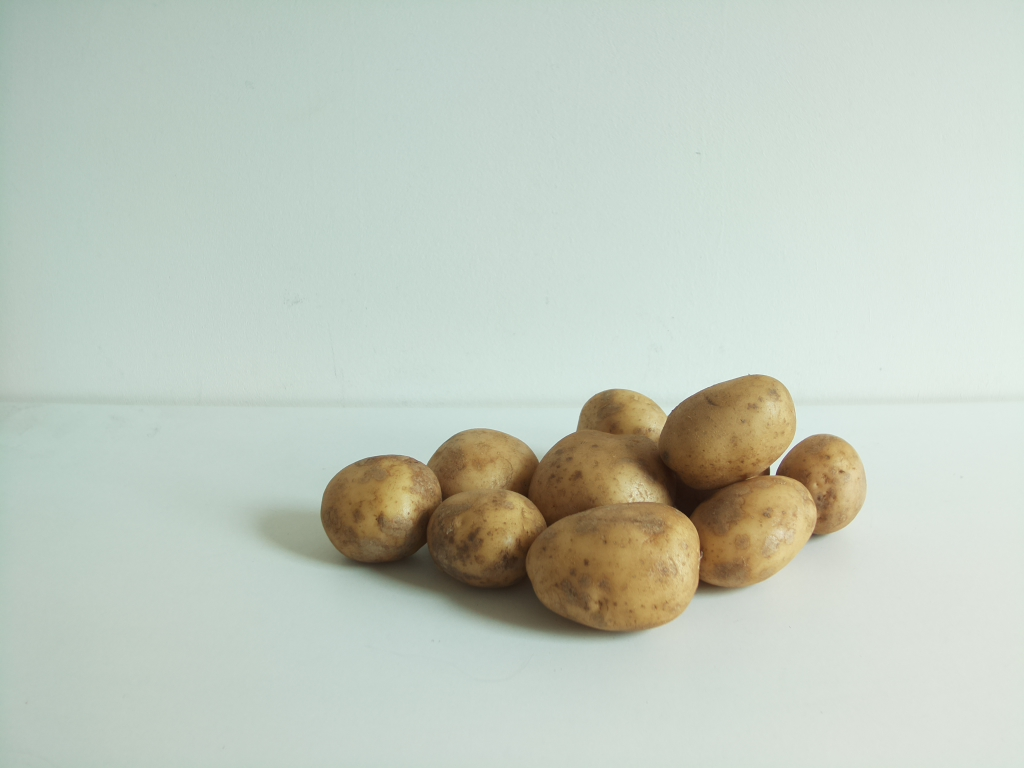potatoes: (312, 375, 870, 635)
